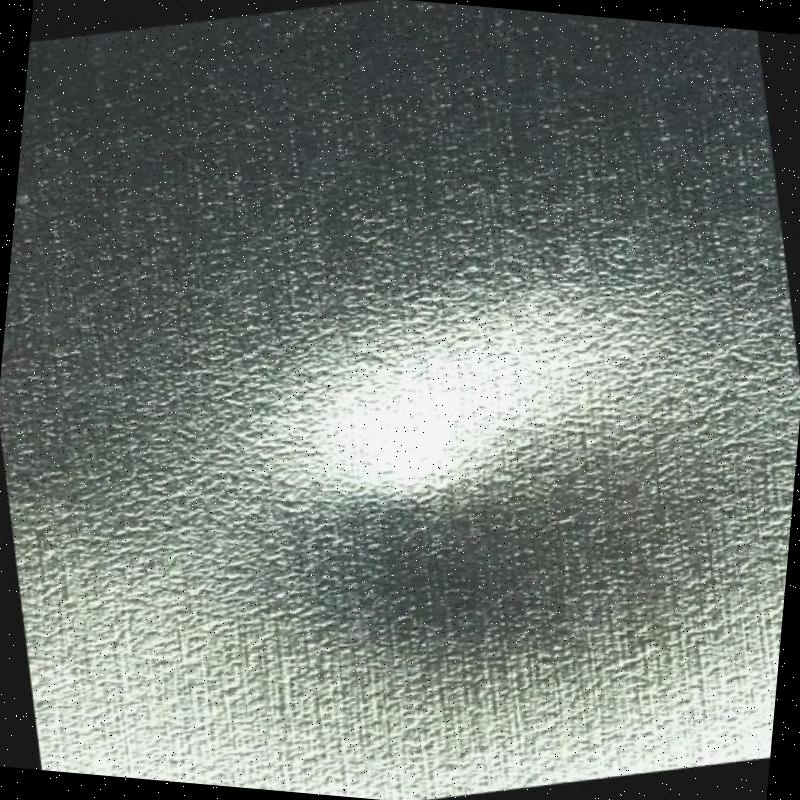Dent: (259, 304, 680, 618)
